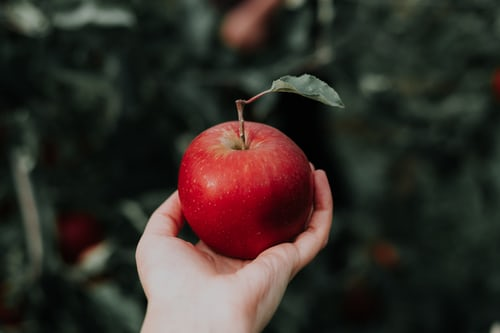apple: (176, 99, 310, 261)
